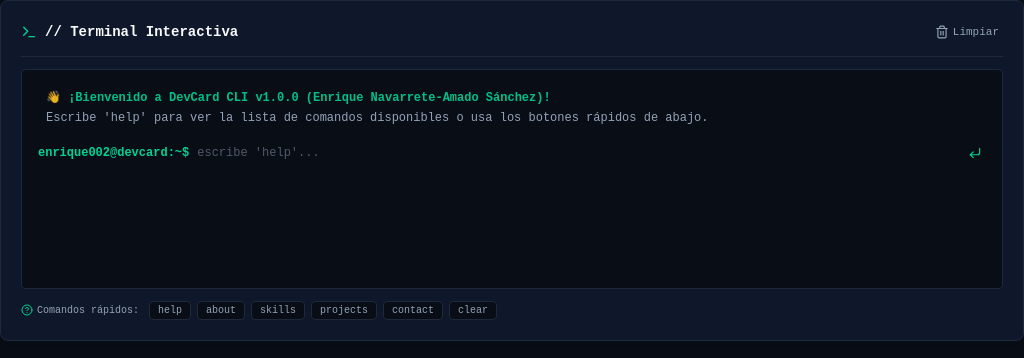
InteractiveTerminal Component › clears terminal history when clear button is clicked
Click the button with aria-label "limpiar terminal": (967, 32) [931,21,1003,44]
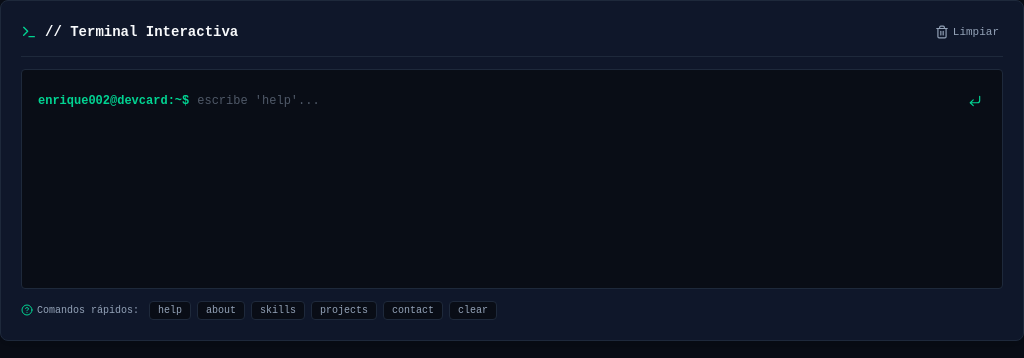
expect the text "¡Bienvenido a DevCard CLI" is gone: met
